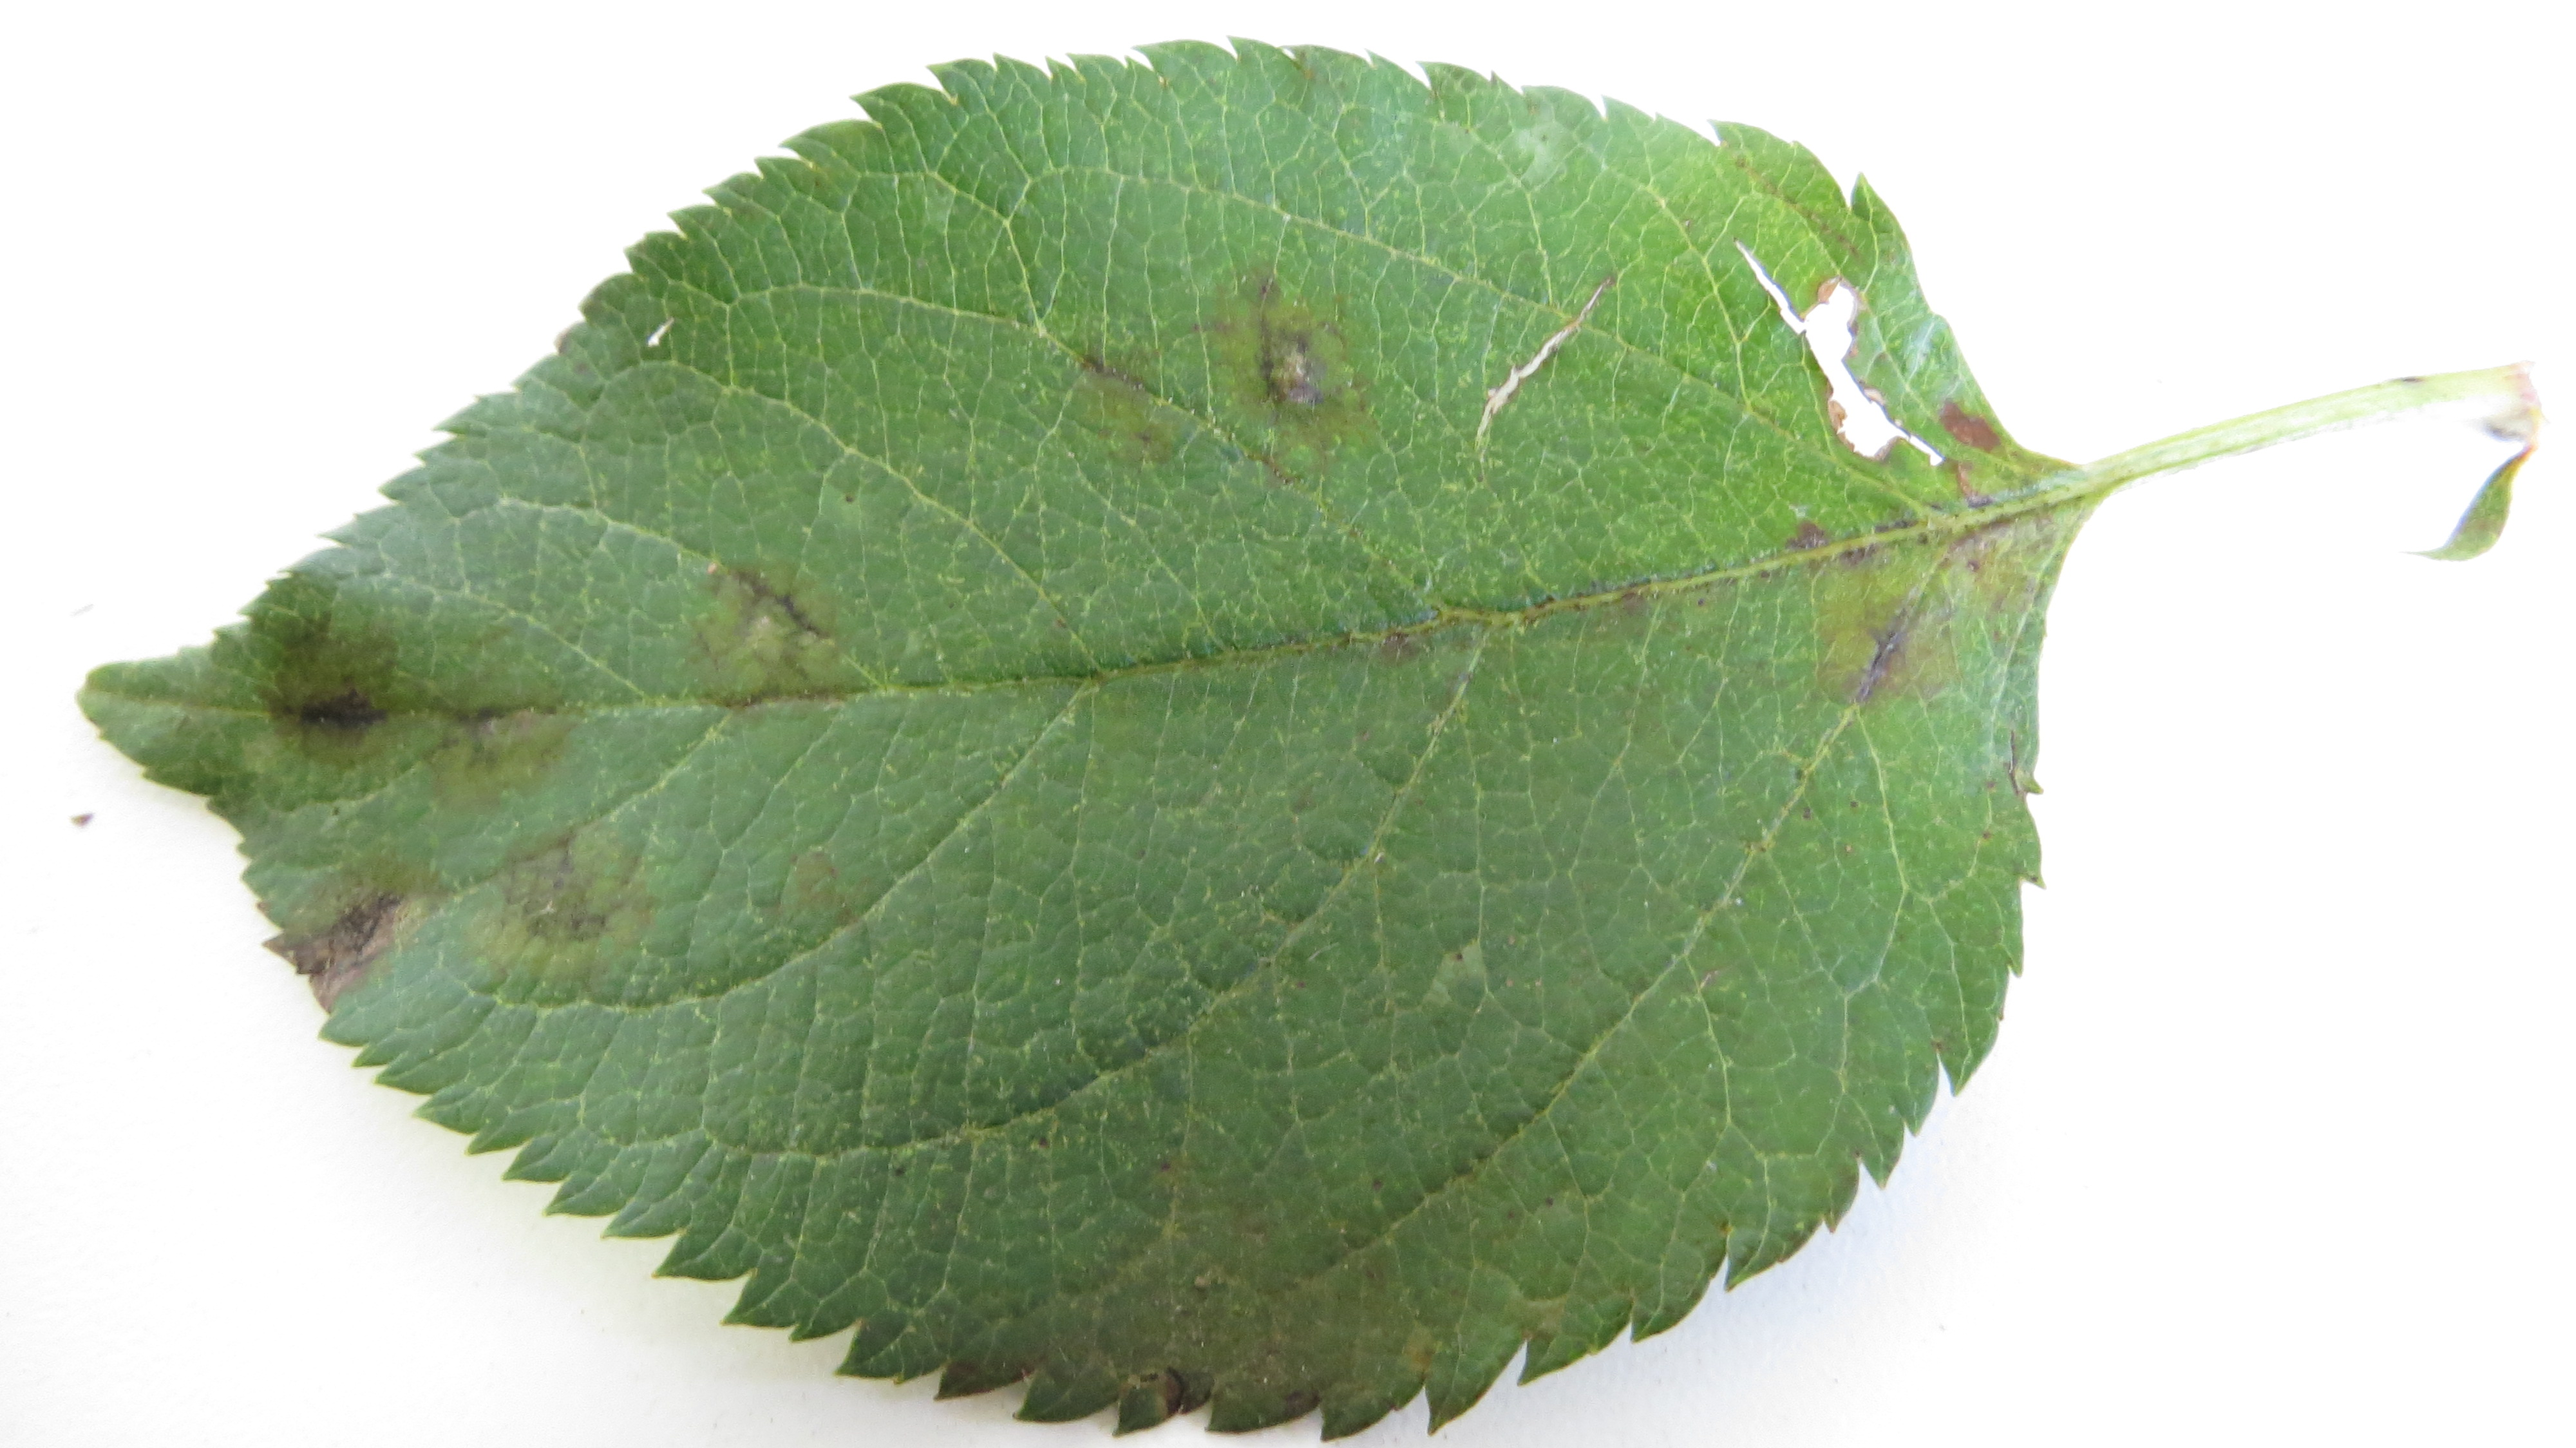sarna: (1017, 1145, 1399, 1421), (467, 820, 672, 991), (1210, 274, 1376, 485), (688, 540, 863, 736), (425, 637, 596, 823), (1925, 404, 2075, 607), (244, 844, 449, 993), (1796, 581, 1982, 715), (274, 609, 432, 761), (1067, 326, 1191, 474), (741, 828, 870, 959), (1771, 487, 1925, 588), (1463, 558, 1583, 659), (1353, 604, 1451, 680), (1605, 568, 1672, 637)
